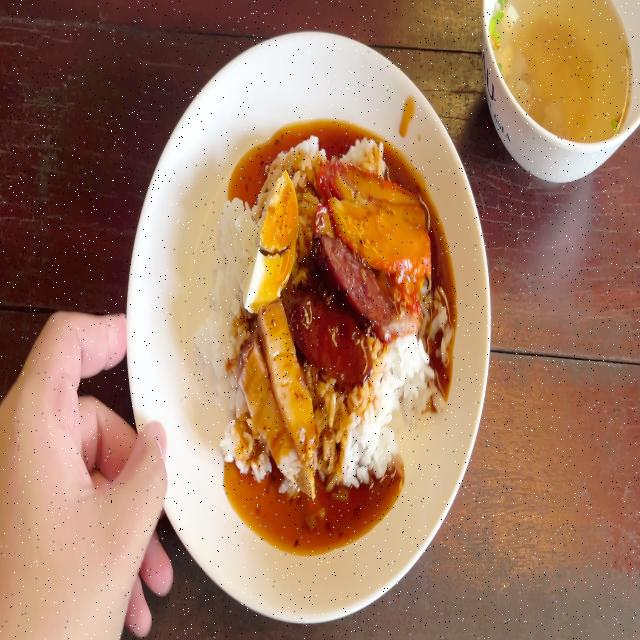boiled_egg: (246, 180, 294, 308)
chainese_sausage: (289, 230, 383, 378)
crispy_pork: (244, 309, 310, 478)
red_pork: (318, 158, 432, 274)
red_pork_and_crispy_pork: (198, 141, 432, 491)
rice: (331, 345, 422, 470), (202, 200, 255, 391)
